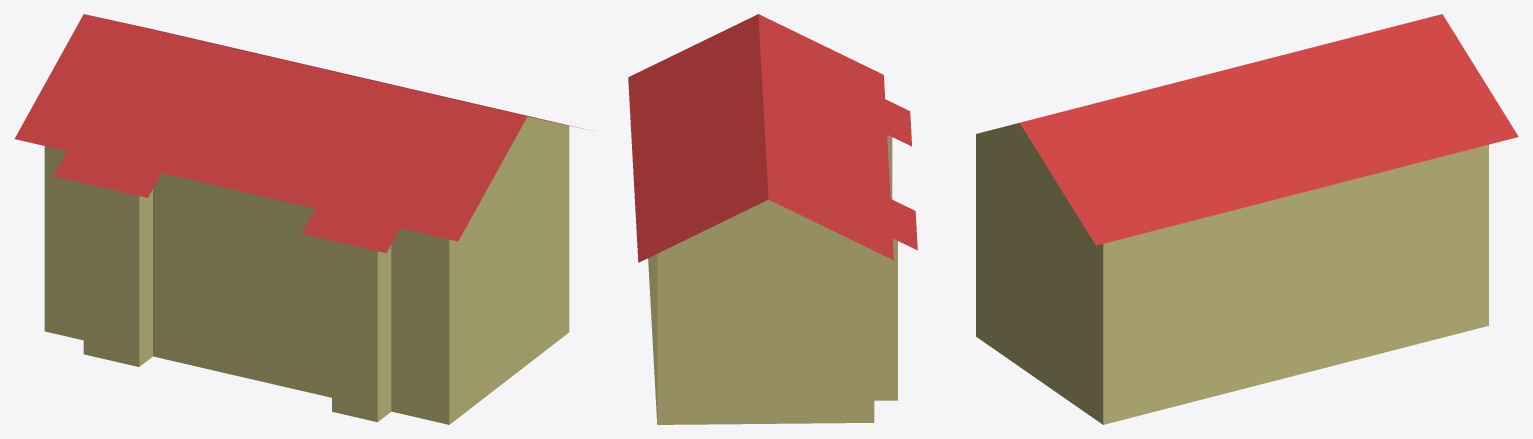
3 views of the same model, side by side, from view 1: azimuth 30°, elevation 25°; view 2: azimuth 150°, elevation 25°; view 3: azimuth 270°, elevation 25° (orthographic). The views are drawn at different scales.
Size of the model in its own units: 23.09 by 26.26 by 13.25.
